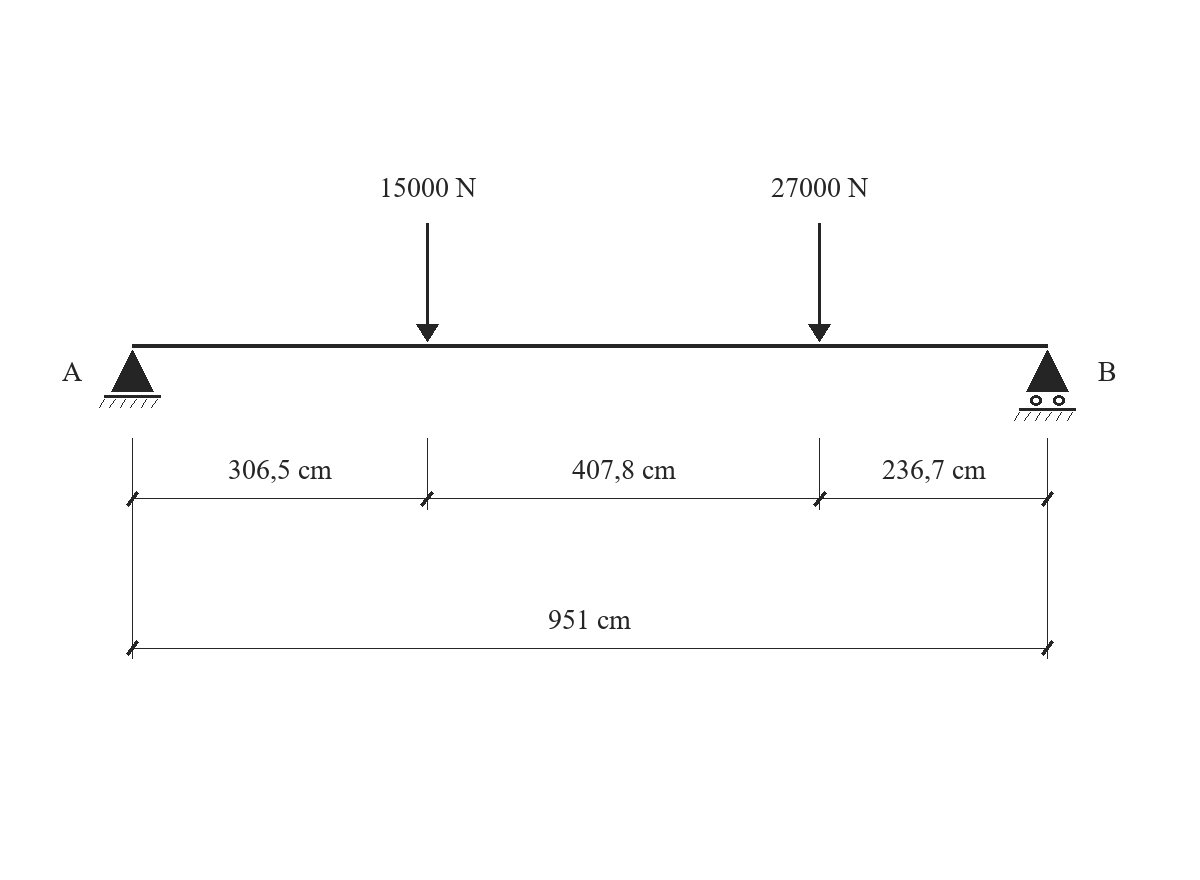pin_support: (99, 350, 161, 408)
point_load: (416, 223, 439, 342), (808, 223, 831, 342)
roller_support: (1014, 350, 1076, 421)
